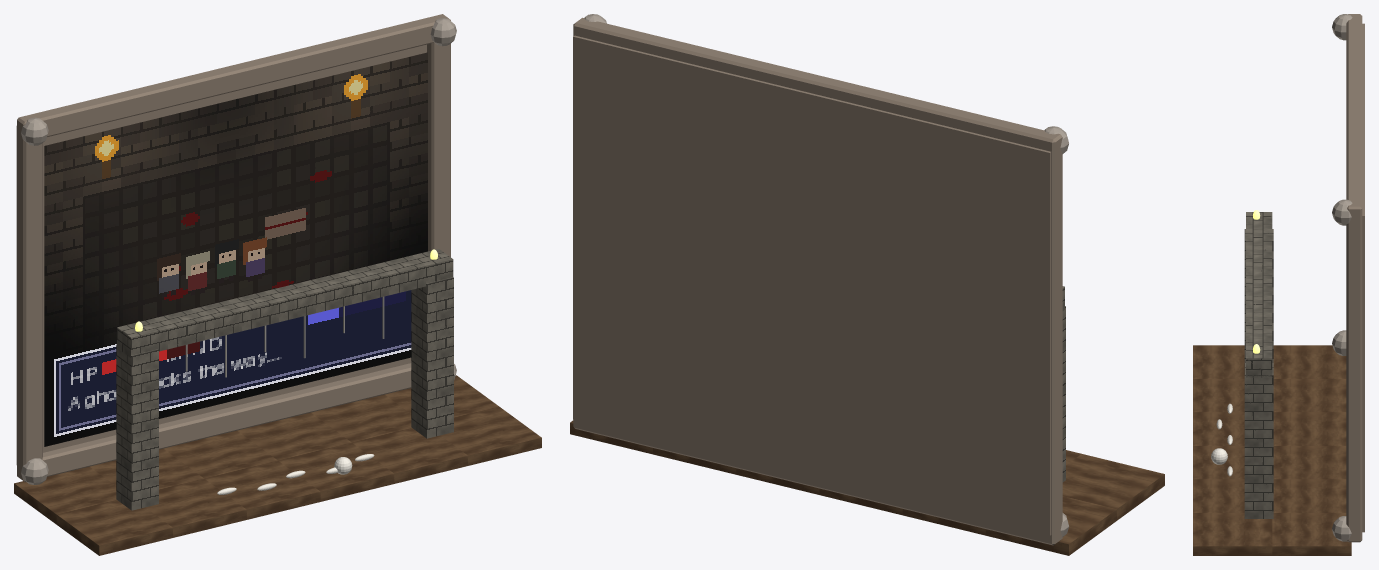
The model's file is ch5_game_4.glb.
3 views of the same model, side by side, from view 1: azimuth 30°, elevation 25°; view 2: azimuth 150°, elevation 25°; view 3: azimuth 270°, elevation 25° (orthographic). The views are drawn at different scales.
Visible parts, largest first — view 1: screen, floor, arch, frame_top.001, frame_top, frame_side, pillar, pillar.001, frame_back, frame_side.001; view 2: frame_back, floor, frame_top.001, frame_side, frame_top; view 3: floor, frame_side.001, arch, pillar.001, frame_top.001, frame_back, pillar, frame_knob.003, frame_knob.002, frame_knob.001, frame_knob, skull.
Boxes of the visible parts, x1,y1,x2,y2 form: screen: (44,52,427,446); floor: (14,375,541,555); arch: (117,249,453,357); frame_top.001: (17,14,450,138); frame_top: (17,363,411,482); frame_side: (17,125,42,471); pillar: (116,344,158,510); pillar.001: (411,277,453,438); frame_back: (16,44,426,464); frame_side.001: (427,42,450,256); frame_back: (573,35,1051,535); floor: (570,420,1164,555); frame_top.001: (573,17,1062,160); frame_side: (1034,144,1062,537); frame_top: (573,421,1062,545); floor: (1193,345,1351,555); frame_side.001: (1346,213,1362,536); arch: (1246,212,1272,377); pillar.001: (1244,363,1273,518); frame_top.001: (1346,14,1362,224); frame_back: (1362,23,1364,532); pillar: (1244,229,1273,362); frame_knob.003: (1332,199,1352,225); frame_knob.002: (1332,516,1351,541); frame_knob.001: (1332,14,1352,40); frame_knob: (1332,330,1346,355); skull: (1211,448,1227,464).
Bounding box in the file's own units: 18 × 14.5 × 6.5.
Materials: 9 (3 with a texture image).
